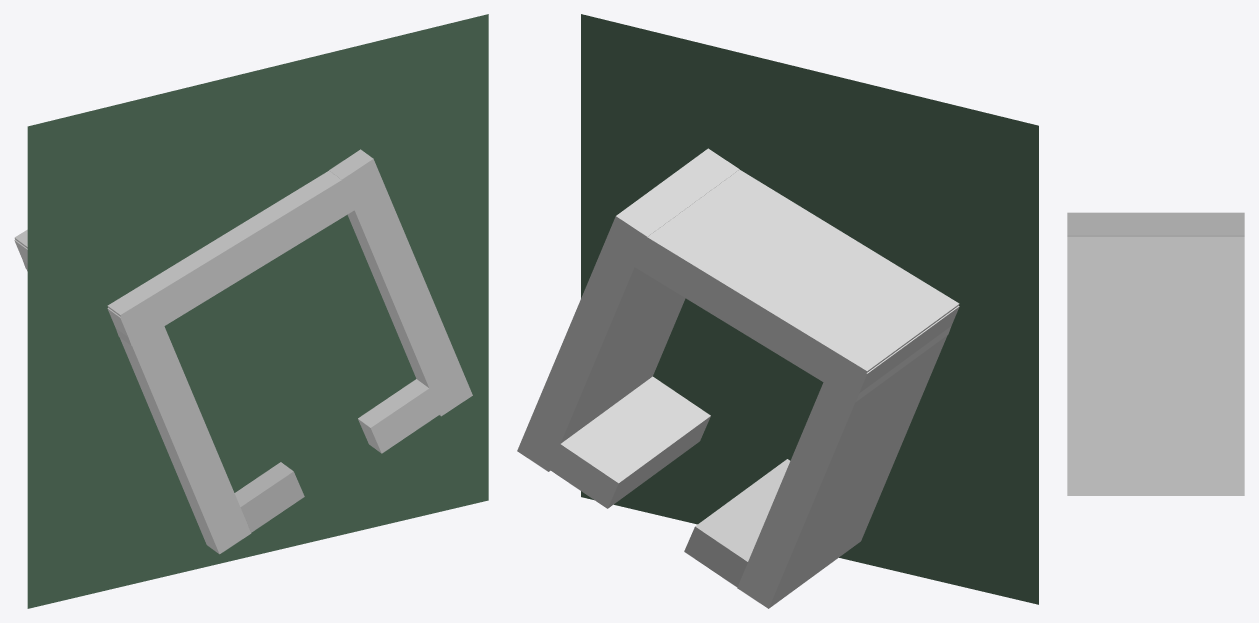
Rendered from pussel2_0.fbx.
3 renders of one model, left to right at view 1: azimuth 30°, elevation 25°; view 2: azimuth 150°, elevation 25°; view 3: azimuth 270°, elevation 25°, orthographic. The views are drawn at different scales.
Visible parts, largest first — view 1: ground, Cube.001, Cube, Cube.002, Cube.003, Cube.004; view 2: ground, Cube.001, Cube.002, Cube, Cube.003, Cube.004; view 3: Cube, Cube.001.
Part boxes in pixels (left/top/right/bottom): ground: left=27, top=14, right=488, bottom=608; Cube.001: left=14, top=162, right=375, bottom=345; Cube: left=329, top=149, right=472, bottom=416; Cube.002: left=14, top=239, right=251, bottom=554; Cube.003: left=358, top=379, right=439, bottom=453; Cube.004: left=234, top=462, right=304, bottom=532; ground: left=581, top=14, right=1038, bottom=604; Cube.001: left=605, top=169, right=959, bottom=401; Cube.002: left=737, top=306, right=959, bottom=608; Cube: left=517, top=148, right=739, bottom=471; Cube.003: left=546, top=376, right=710, bottom=508; Cube.004: left=684, top=459, right=790, bottom=586; Cube: left=1067, top=235, right=1244, bottom=495; Cube.001: left=1067, top=212, right=1244, bottom=234.
Size of what is drawn, in the model's own units: 2500 by 2521 by 995.
